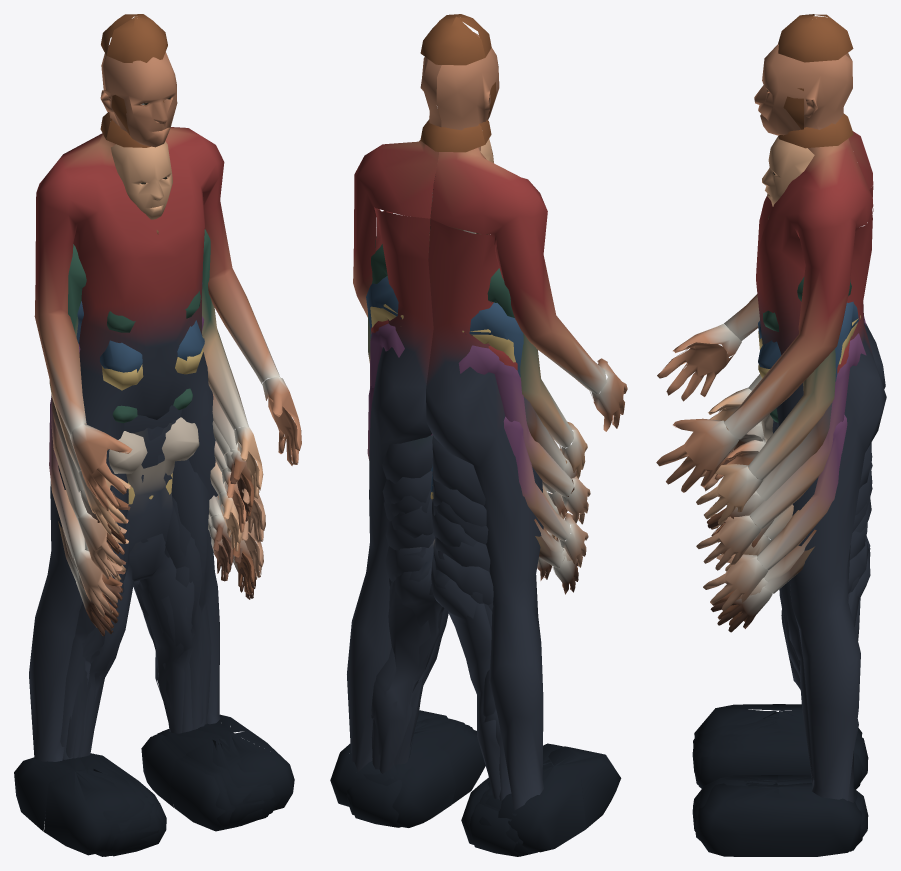
Rendered from crowd.a8f8c394bbd1.glb.
3 renders of one model, left to right at view 1: azimuth 30°, elevation 25°; view 2: azimuth 150°, elevation 25°; view 3: azimuth 270°, elevation 25°, orthographic. The views are drawn at different scales.
Parts seen in each view (by area): view 1: crowd-6, crowd-3, crowd-5, crowd-11, crowd-7, crowd-8, crowd-0, crowd-10, crowd-4, crowd-2, crowd-9, crowd-1; view 2: crowd-6, crowd-1, crowd-3, crowd-4, crowd-11, crowd-7, crowd-2, crowd-10, crowd-8, crowd-5, crowd-9, crowd-0; view 3: crowd-6, crowd-3, crowd-4, crowd-10, crowd-7, crowd-11, crowd-8, crowd-1, crowd-2, crowd-5, crowd-0, crowd-9.
Boxes of the visible parts, <box> form: crowd-6: <box>14,14,301,855</box>; crowd-3: <box>46,112,281,854</box>; crowd-5: <box>78,417,264,856</box>; crowd-11: <box>88,514,237,851</box>; crowd-7: <box>52,206,276,855</box>; crowd-8: <box>68,348,250,819</box>; crowd-0: <box>72,441,274,855</box>; crowd-10: <box>49,398,268,856</box>; crowd-4: <box>51,316,265,856</box>; crowd-2: <box>58,473,255,856</box>; crowd-9: <box>81,388,265,855</box>; crowd-1: <box>62,496,254,735</box>; crowd-6: <box>330,14,627,852</box>; crowd-1: <box>347,464,577,856</box>; crowd-3: <box>363,109,587,815</box>; crowd-4: <box>347,230,590,855</box>; crowd-11: <box>391,557,551,844</box>; crowd-7: <box>366,176,576,797</box>; crowd-2: <box>391,492,578,856</box>; crowd-10: <box>346,386,588,855</box>; crowd-8: <box>370,193,573,811</box>; crowd-5: <box>385,531,555,794</box>; crowd-9: <box>385,485,566,804</box>; crowd-0: <box>371,234,567,797</box>; crowd-6: <box>656,14,886,856</box>; crowd-3: <box>693,113,871,831</box>; crowd-4: <box>696,316,871,851</box>; crowd-10: <box>703,415,866,835</box>; crowd-7: <box>693,215,872,840</box>; crowd-11: <box>698,576,863,789</box>; crowd-8: <box>695,315,872,794</box>; crowd-1: <box>711,523,870,850</box>; crowd-2: <box>710,522,870,851</box>; crowd-5: <box>693,414,868,821</box>; crowd-0: <box>692,340,868,832</box>; crowd-9: <box>694,408,866,761</box>.
Bounding box in the file's own units: 0.6599 × 2.24 × 0.5869.
